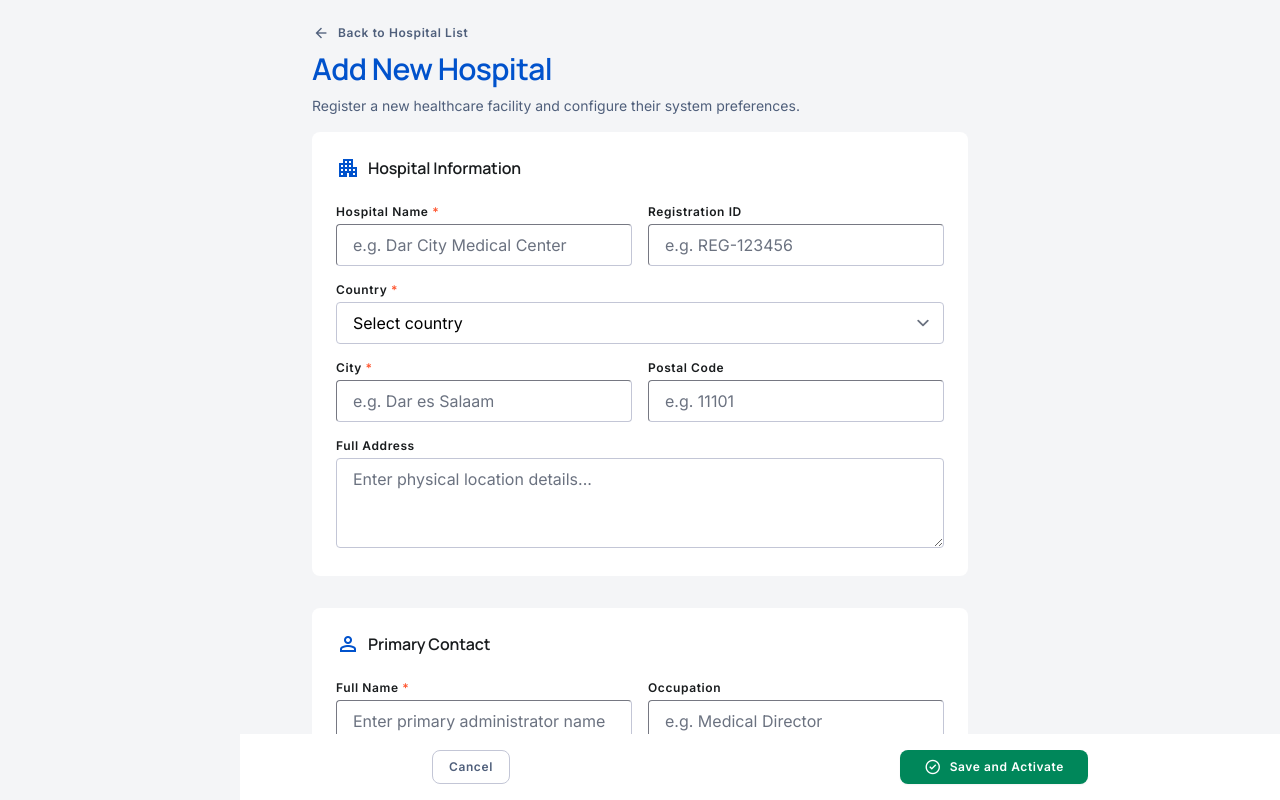
Test case: CreateTenantPage › displays form validation error banners on invalid submission attempts
// Trigger click on submit button
Step 1. Click the button "Save and Activate" → (994, 767), box [900, 750, 1088, 784]
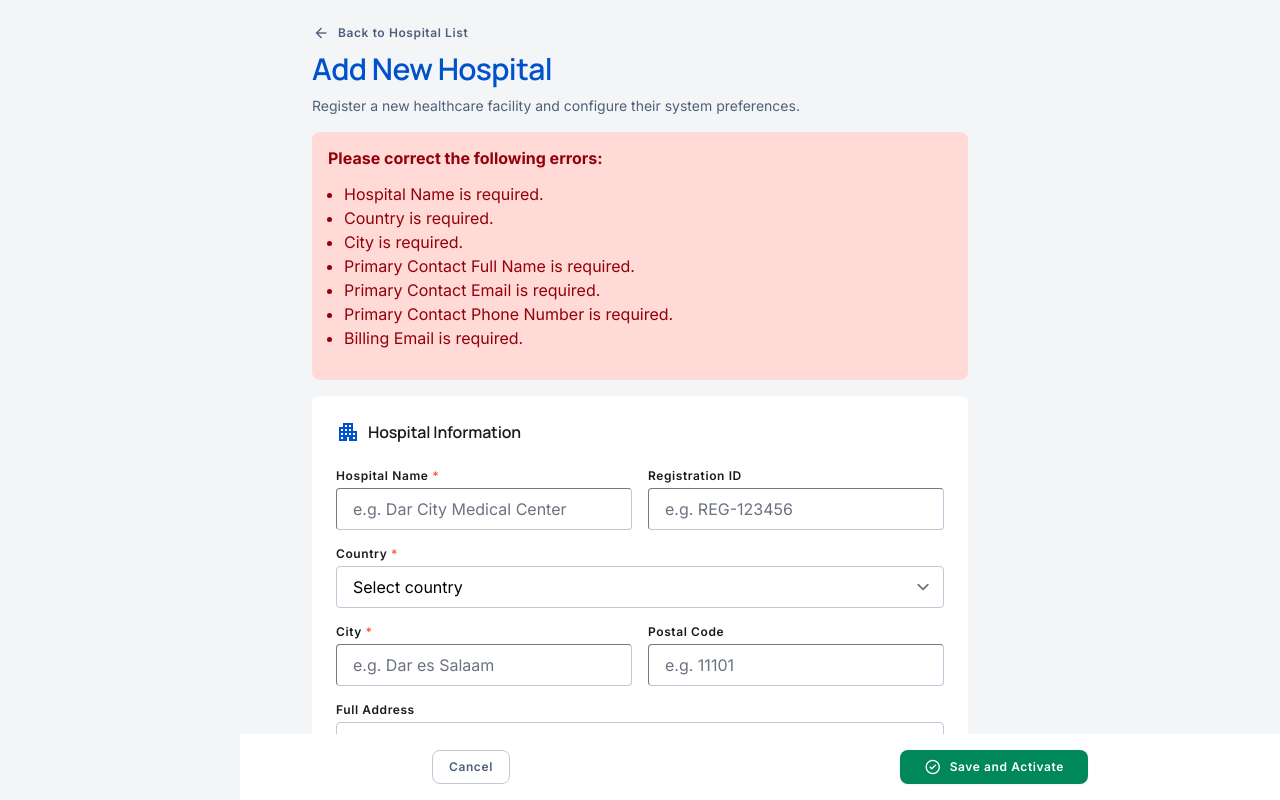
Now the text "Please correct the following errors:" is shown, box [328, 148, 602, 168]
Now the list item "Hospital Name is required." is shown, box [344, 184, 544, 204]
Now the list item "Primary Contact Full Name is required." is shown, box [344, 256, 635, 276]
